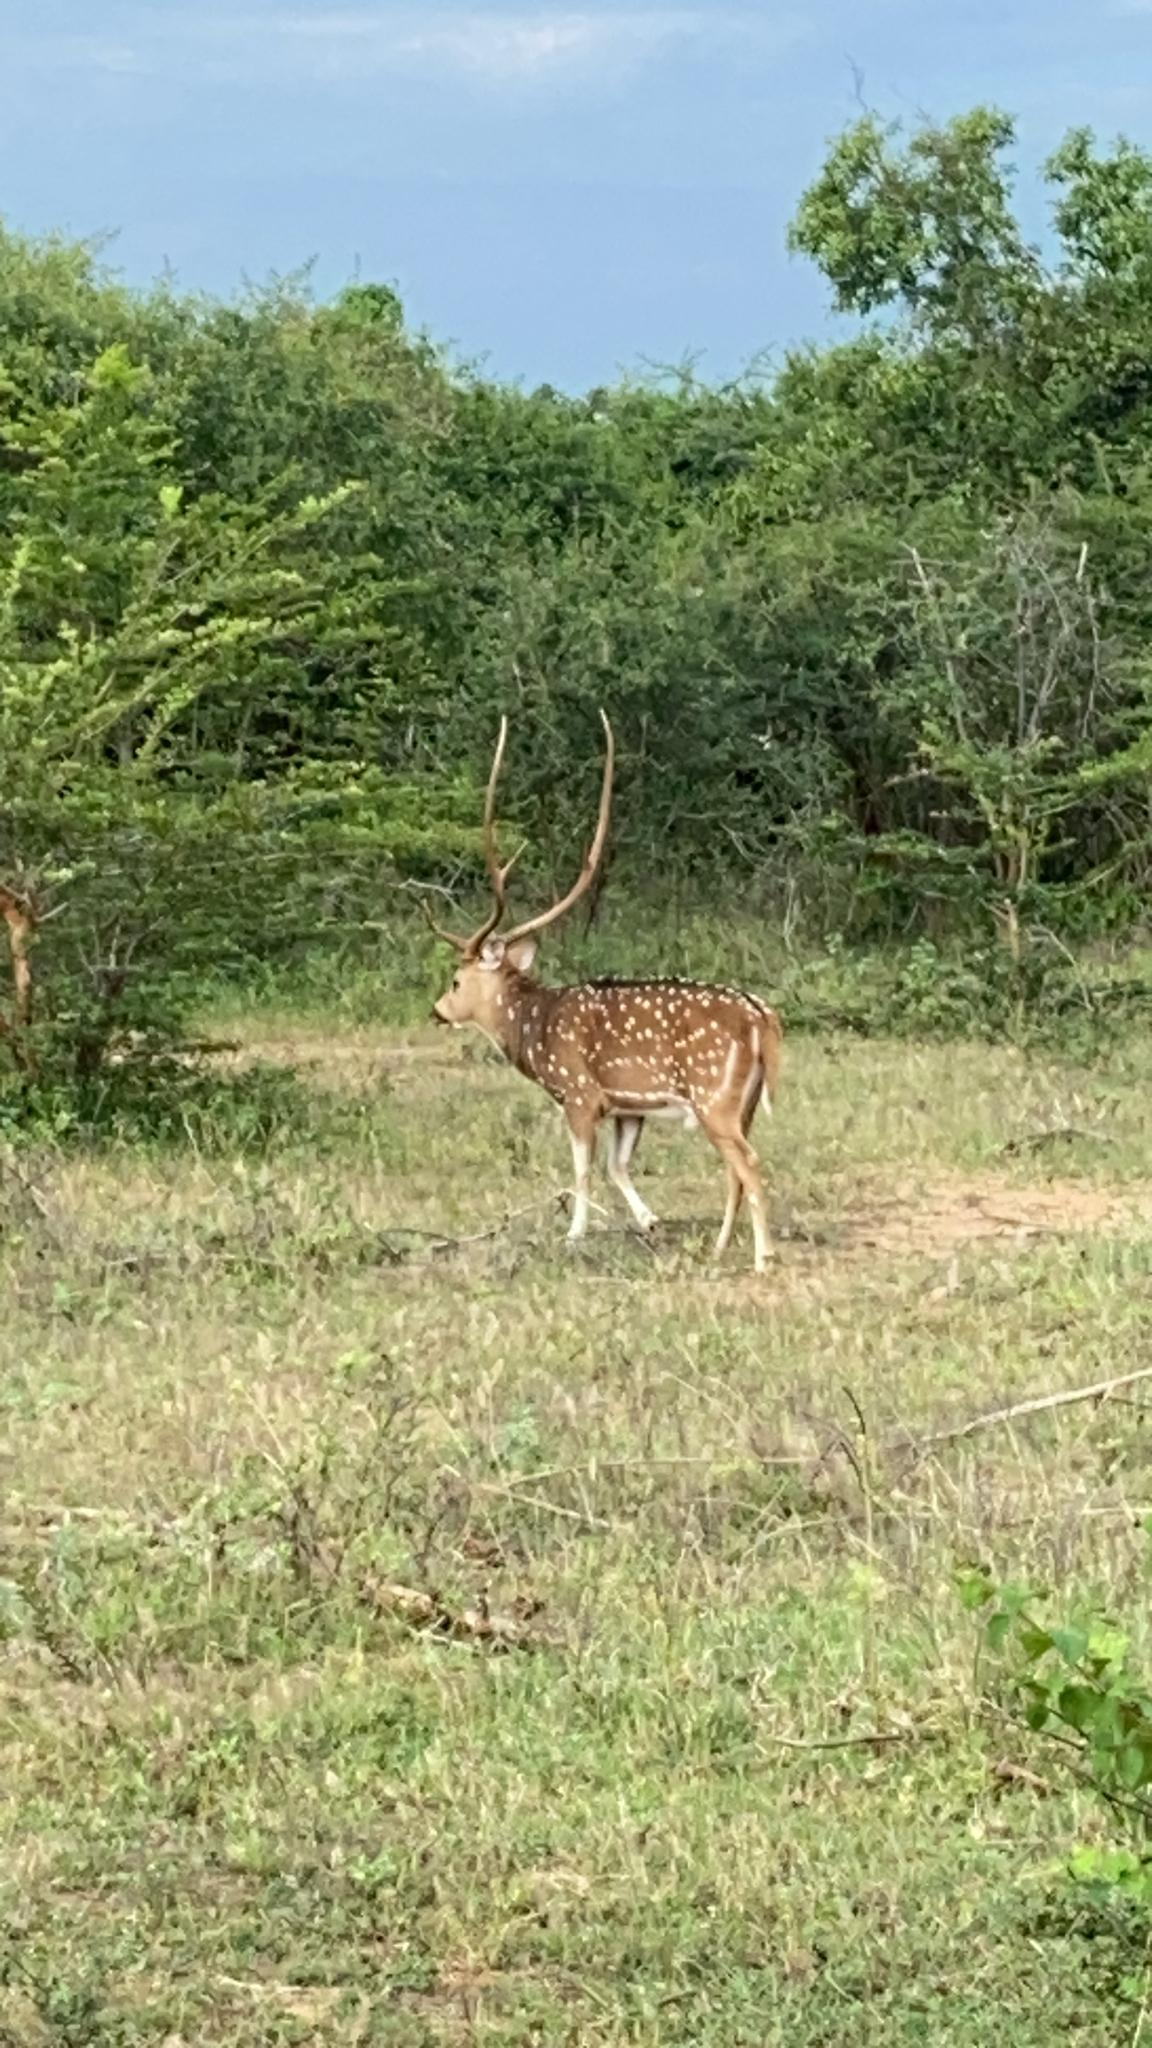Deer: (433, 715, 781, 1272)
